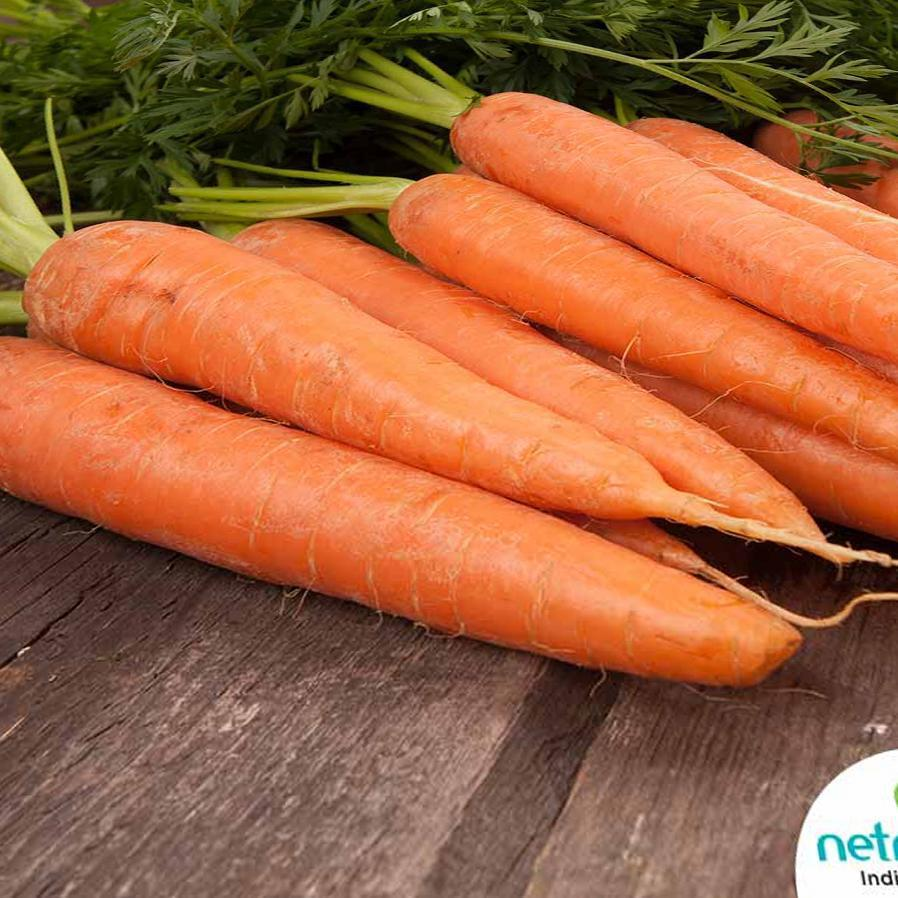carrot: (3, 209, 864, 681)
